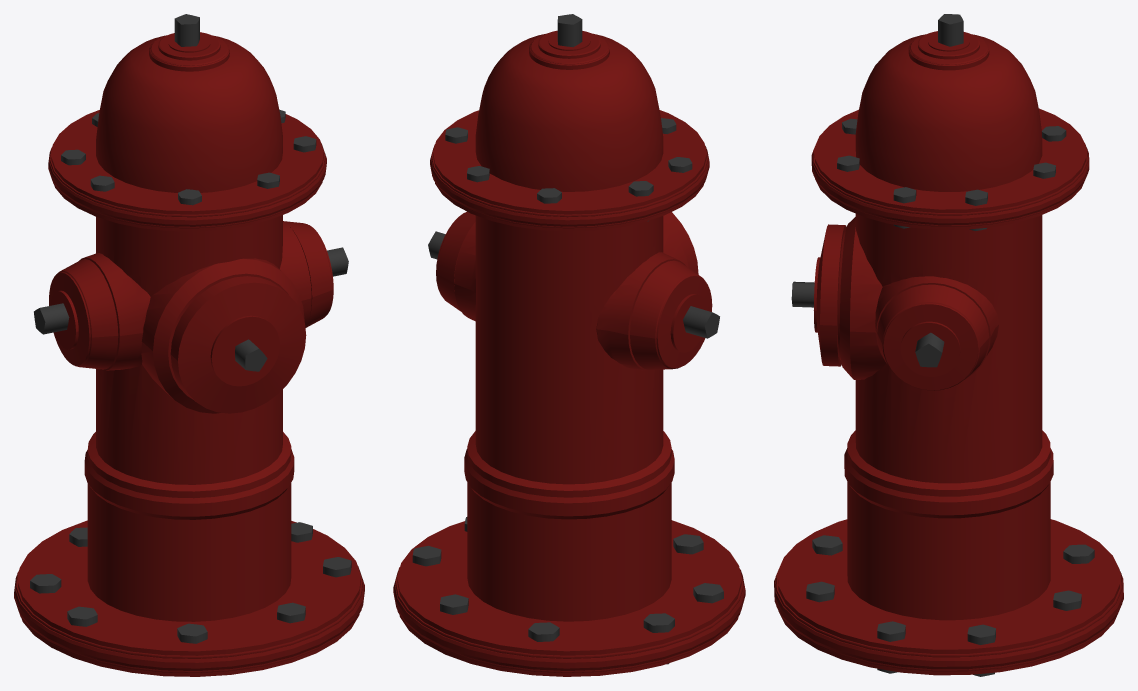
The model's file is yangın_musluğu.fbx.
The picture shows the model from 3 angles, left to right: view 1: azimuth 30°, elevation 25°; view 2: azimuth 150°, elevation 25°; view 3: azimuth 270°, elevation 25°; orthographic projection.
Visible parts, largest first — view 1: Simple Fire Hydrant, Knobs and Screws; view 2: Simple Fire Hydrant, Knobs and Screws; view 3: Simple Fire Hydrant, Knobs and Screws.
Boxes of the visible parts, left/top/right/bottom form: Simple Fire Hydrant: left=14, top=32, right=364, bottom=676; Knobs and Screws: left=30, top=14, right=351, bottom=643; Simple Fire Hydrant: left=393, top=30, right=745, bottom=676; Knobs and Screws: left=412, top=14, right=723, bottom=664; Simple Fire Hydrant: left=774, top=31, right=1123, bottom=675; Knobs and Screws: left=791, top=14, right=1094, bottom=676.
Bounding box in the file's own units: 247 × 460 × 247.
